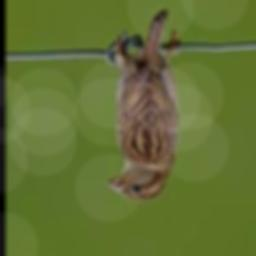Sparrow: (106, 10, 177, 203)
